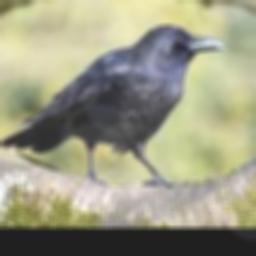Crow: (0, 25, 227, 187)
